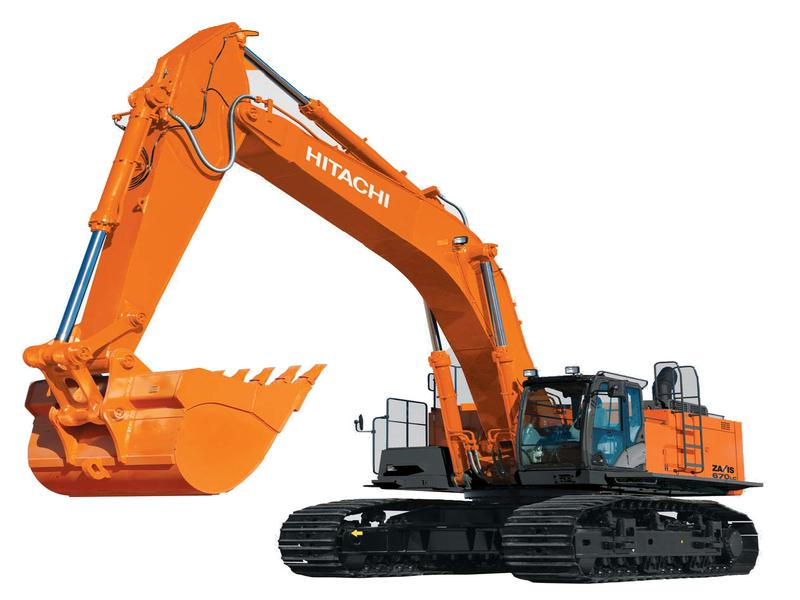shovel: (22, 18, 771, 593)
